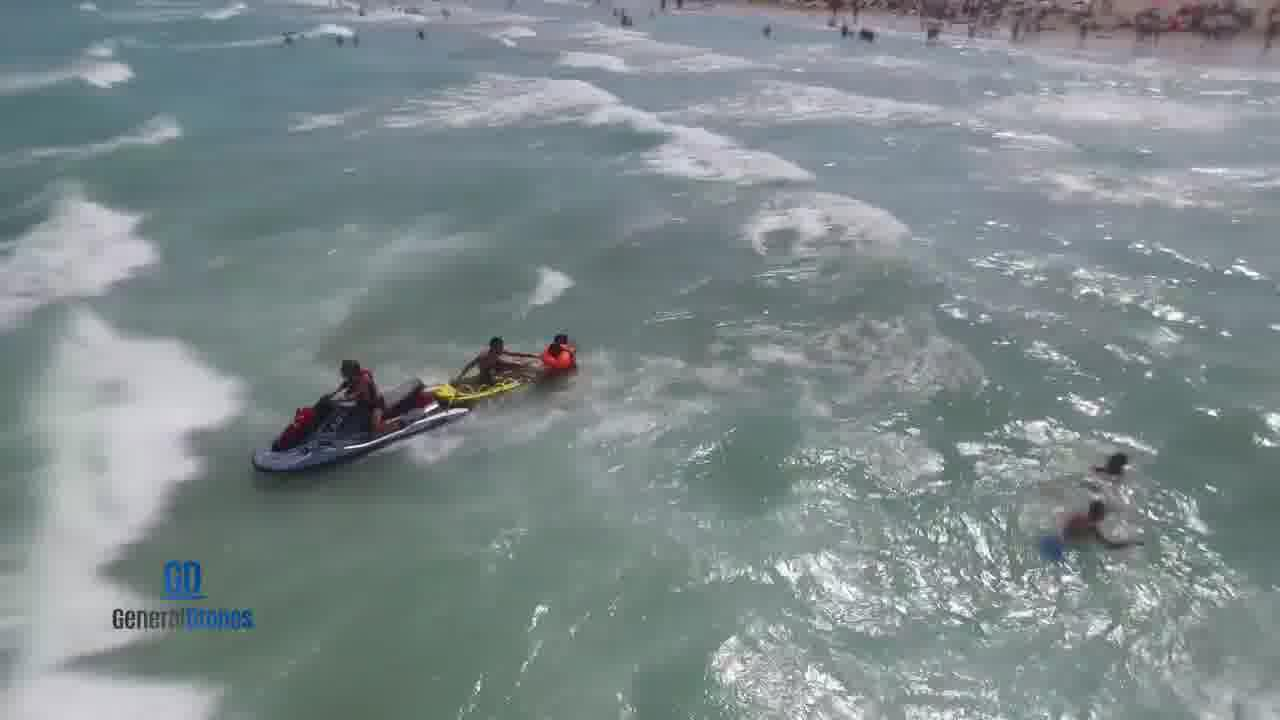swimmer: (1048, 490, 1133, 560), (533, 324, 597, 370), (1095, 440, 1160, 480), (466, 327, 503, 376)
